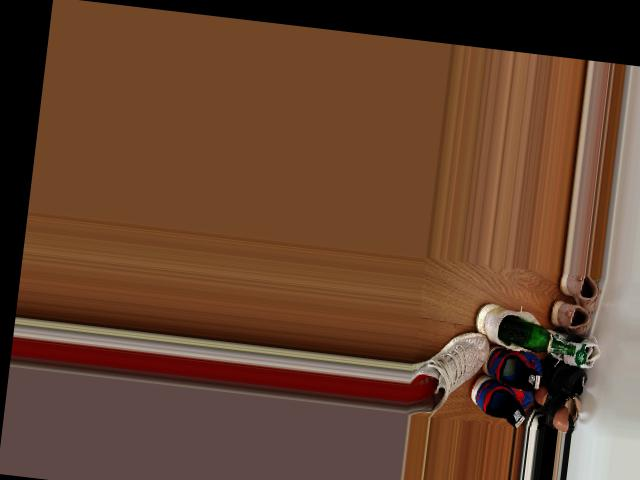beer: (496, 314, 577, 357)
